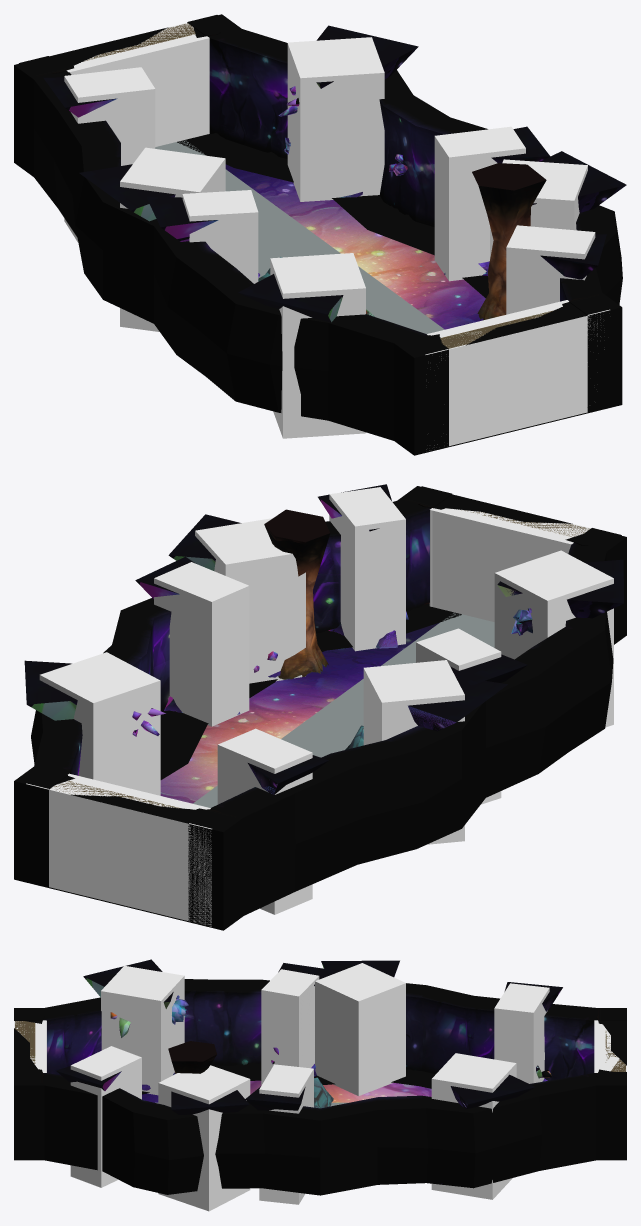
The model's file is Dungeon_101_Road_002.fbx.
3 views of the same model, one above another, from view 1: azimuth 30°, elevation 25°; view 2: azimuth 150°, elevation 25°; view 3: azimuth 270°, elevation 25° (orthographic). The views are drawn at different scales.
Visible parts, largest first — view 1: Dun_101_Road_002_wall, DoorWay_NavMask (1) (×3), Cube_08, Dun_101_Road_002_Object02 (×2), Dun_101_Road_002_ground, Cube_04, Cube_01, Quad_Nav_SP, Dun_101_Road_002_shadow, Cube_06, Dungeon_011_Object_010, Cube_03 (+5 smaller); view 2: Dun_101_Road_002_wall, DoorWay_NavMask (1) (×3), Dun_101_Road_002_Object02 (×2), Cube_04, Cube_08, Cube_03, Cube_07, Dun_101_Road_002_ground, Cube_01, Cube_02, Quad_Nav_SP, Dun_011_Door_002_old (×2) (+6 smaller); view 3: Dun_101_Road_002_wall, Cube_02, Cube_01, Dun_101_Road_002_Object02, Cube_05, Cube_07, Cube_06, Cube_08, Cube_03, Dun_011_Door_002_old (×2), Cube_04, Dun_101_Road_002_ground (+6 smaller).
Part boxes in pixels (x1,y1,x2,y2): Dun_101_Road_002_wall: [14, 14, 622, 455]; DoorWay_NavMask (1) (×3): [66, 23, 609, 450]; Cube_08: [287, 37, 384, 201]; Dun_101_Road_002_Object02 (×2): [43, 25, 626, 322]; Dun_101_Road_002_ground: [225, 164, 485, 329]; Cube_04: [434, 126, 525, 281]; Cube_01: [270, 253, 365, 438]; Quad_Nav_SP: [155, 140, 444, 333]; Dun_101_Road_002_shadow: [177, 133, 488, 298]; Cube_06: [64, 67, 155, 242]; Dungeon_011_Object_010: [472, 163, 546, 320]; Cube_03: [506, 225, 595, 314]; Dun_101_Road_002_wall: [14, 486, 626, 930]; DoorWay_NavMask (1) (×3): [26, 508, 590, 926]; Dun_101_Road_002_Object02 (×2): [24, 484, 623, 794]; Cube_04: [154, 562, 249, 726]; Cube_08: [39, 652, 160, 795]; Cube_03: [329, 487, 405, 651]; Cube_07: [195, 518, 305, 683]; Dun_101_Road_002_ground: [160, 622, 439, 803]; Cube_01: [494, 550, 613, 727]; Cube_02: [363, 660, 464, 844]; Quad_Nav_SP: [193, 612, 494, 807]; Dun_011_Door_002_old (×2): [19, 486, 621, 867]; Dun_101_Road_002_wall: [14, 979, 626, 1195]; Cube_02: [315, 963, 405, 1096]; Cube_01: [101, 965, 184, 1095]; Dun_101_Road_002_Object02: [56, 959, 562, 1184]; Cube_05: [261, 969, 319, 1084]; Cube_07: [158, 1065, 250, 1211]; Cube_06: [494, 983, 549, 1083]; Cube_08: [431, 1053, 516, 1199]; Cube_03: [70, 1046, 141, 1187]; Dun_011_Door_002_old (×2): [14, 1009, 626, 1083]; Cube_04: [259, 1064, 313, 1204]; Dun_101_Road_002_ground: [142, 1080, 431, 1102].
Size of what is drawn, in the model's own units: 8.7 by 3.4 by 15.
